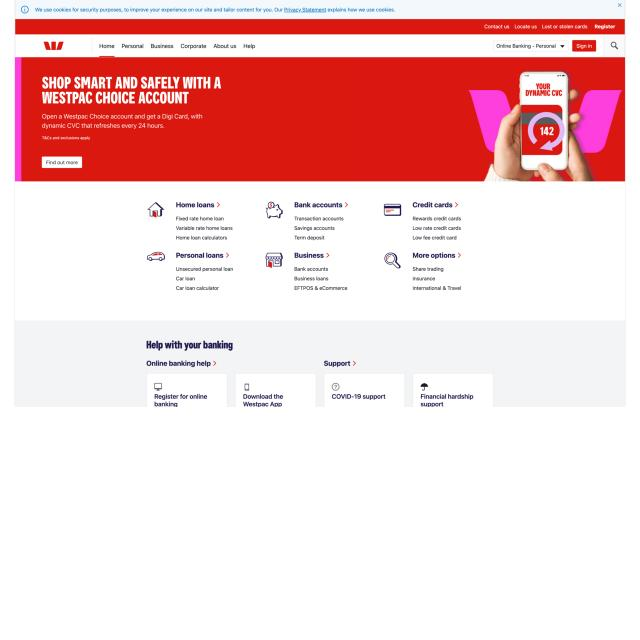logo: (40, 38, 70, 53)
navigation: (94, 39, 262, 59), (484, 22, 617, 30)
